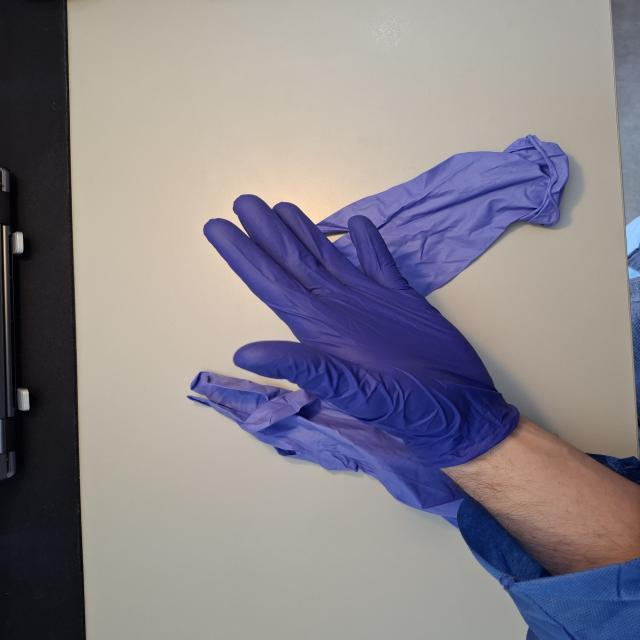glove_on: (199, 192, 511, 466)
